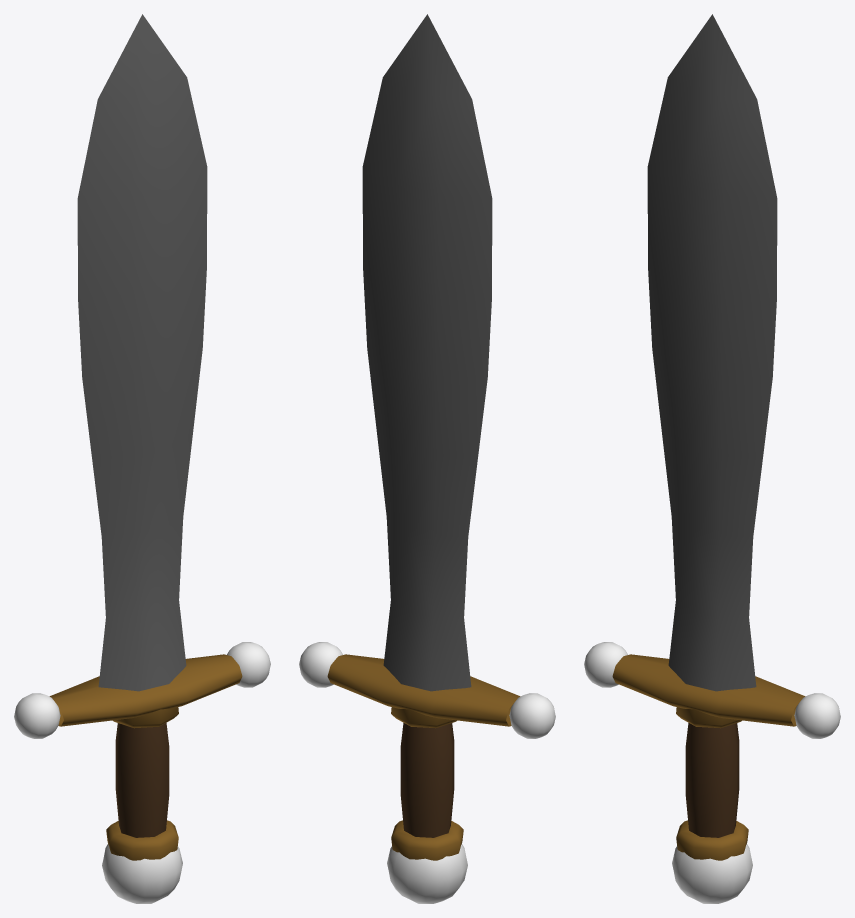
File: Sword.FBX
The picture shows the model from 3 angles, left to right: view 1: azimuth 30°, elevation 25°; view 2: azimuth 150°, elevation 25°; view 3: azimuth 330°, elevation 25°; orthographic projection.
Parts seen in each view (by area): view 1: Cylinder001; view 2: Cylinder001; view 3: Cylinder001.
Part boxes in pixels (box(x1,y1,x2,y2)): Cylinder001: box(14, 14, 270, 903); Cylinder001: box(299, 14, 555, 903); Cylinder001: box(584, 14, 840, 903).
Bounding box in the file's own units: 26.87 × 90.84 × 8.04.
